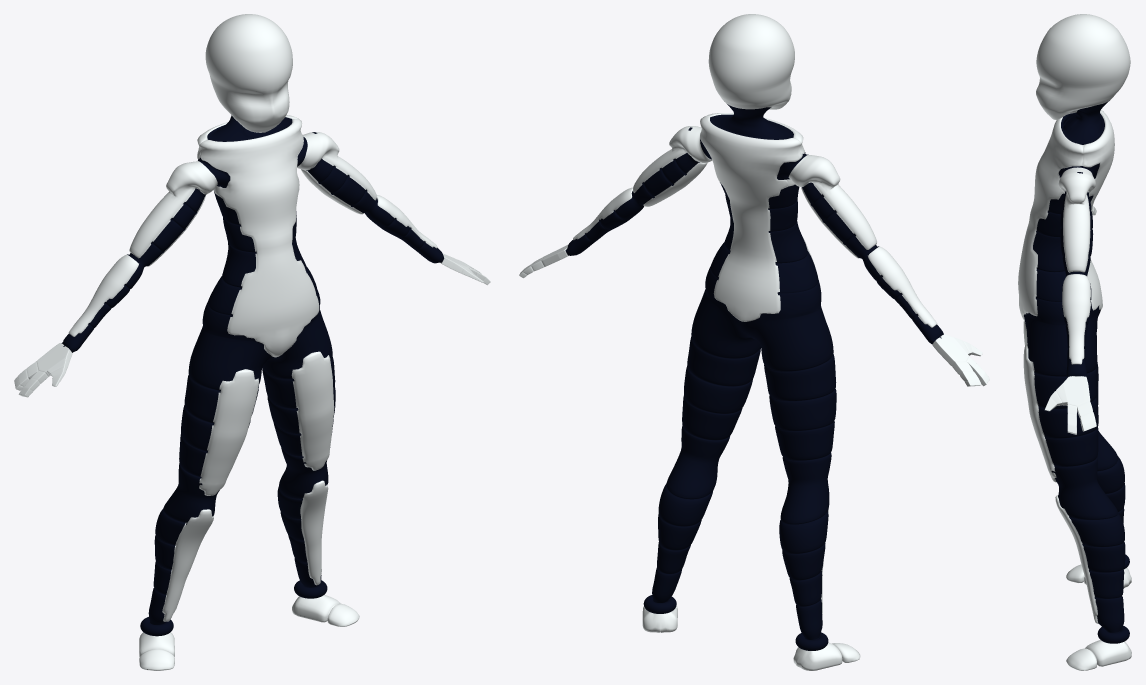
File: ModelNoRig.fbx
The picture shows the model from 3 angles, left to right: view 1: azimuth 30°, elevation 25°; view 2: azimuth 150°, elevation 25°; view 3: azimuth 270°, elevation 25°; orthographic projection. The views are drawn at different scales.
Visible parts, largest first — view 1: head1; view 2: head1; view 3: head1.
Part boxes in pixels (bbox=[...]): head1: bbox=[14, 14, 490, 670]; head1: bbox=[519, 14, 989, 670]; head1: bbox=[1018, 14, 1131, 670].
Bounding box in the file's own units: 15.26 × 19.41 × 3.32.
